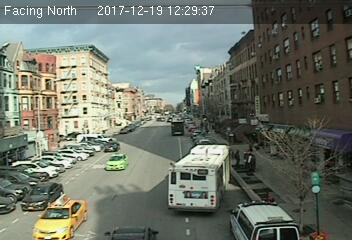bus: (166, 143, 234, 215)
car: (28, 193, 89, 237), (19, 181, 61, 210), (103, 153, 129, 172), (104, 139, 119, 153)
police: (228, 199, 299, 240)
ups: (170, 120, 184, 135)
